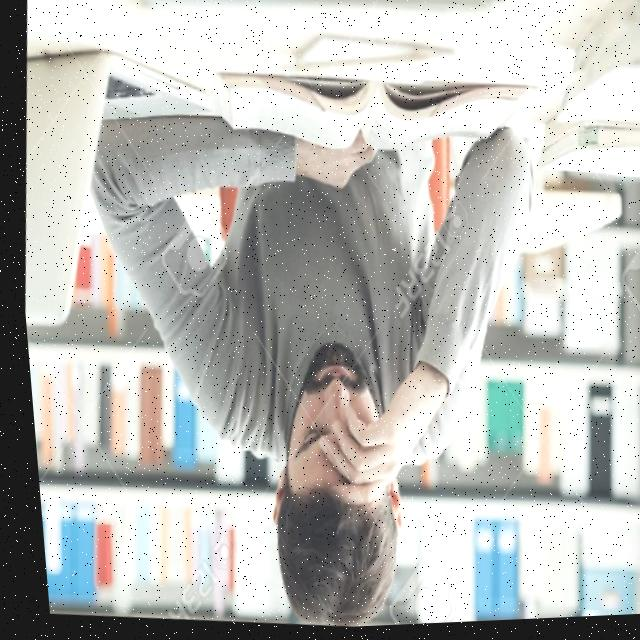studying-person: (83, 54, 539, 629)
